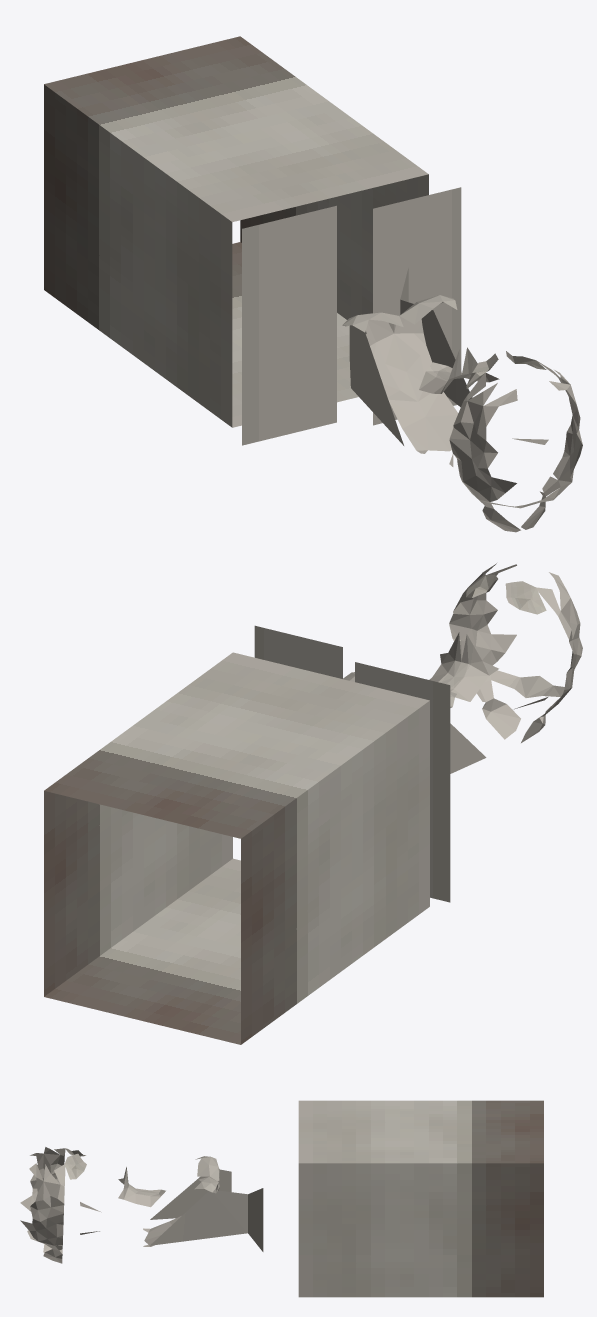
3 renders of one model, top to bottom at view 1: azimuth 30°, elevation 25°; view 2: azimuth 150°, elevation 25°; view 3: azimuth 270°, elevation 25°, orthographic. The views are drawn at different scales.
Bounding box in the file's own units: 0.543 × 0.543 × 1.98.
